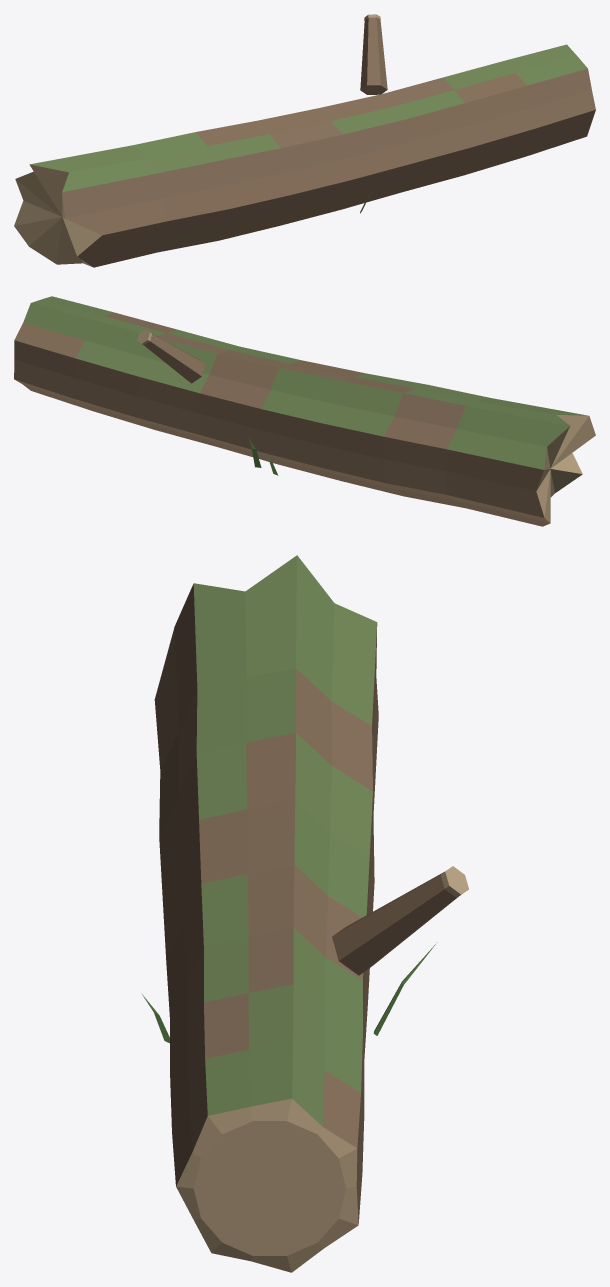
Rendered from fallen_log.glb.
3 views of the same model, one above another, from view 1: azimuth 30°, elevation 25°; view 2: azimuth 150°, elevation 25°; view 3: azimuth 270°, elevation 25° (orthographic). The views are drawn at different scales.
Parts seen in each view (by area): view 1: Body; view 2: Body; view 3: Body.
Boxes of the visible parts, x1,y1,x2,y2 form: Body: [14, 14, 595, 267]; Body: [14, 296, 595, 526]; Body: [141, 555, 468, 1272].
Size of the model in its own units: 2.72 by 0.6774 by 0.7195.
